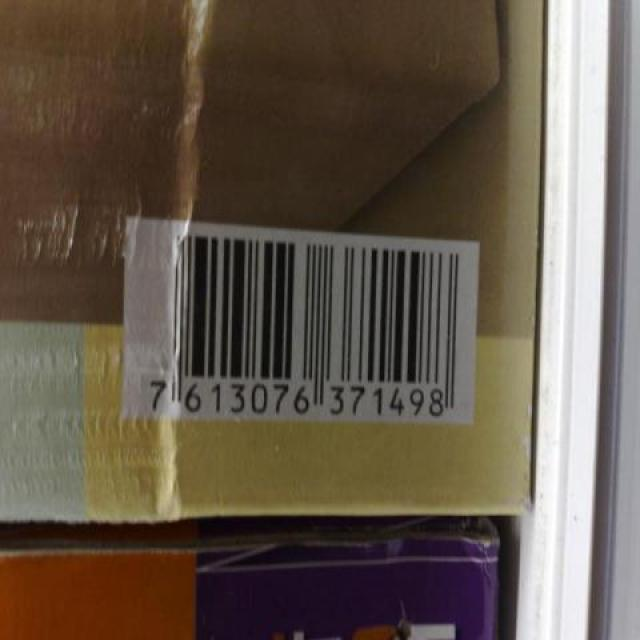Barcode: (124, 217, 473, 424)
